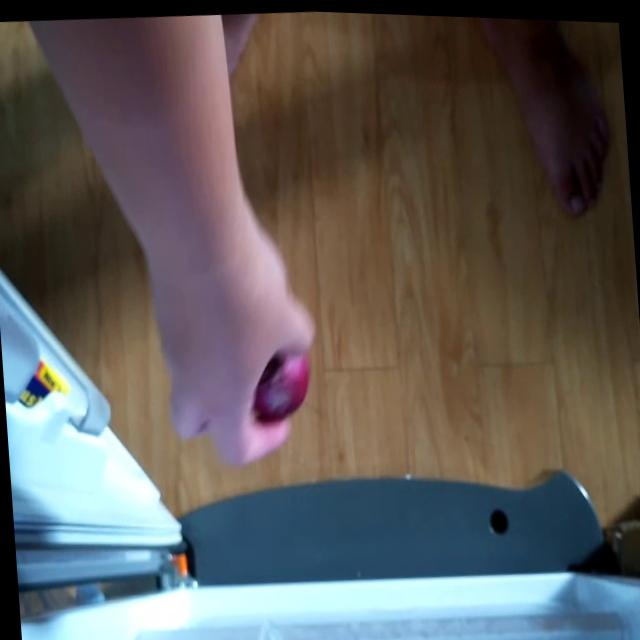onion: (246, 342, 313, 421)
